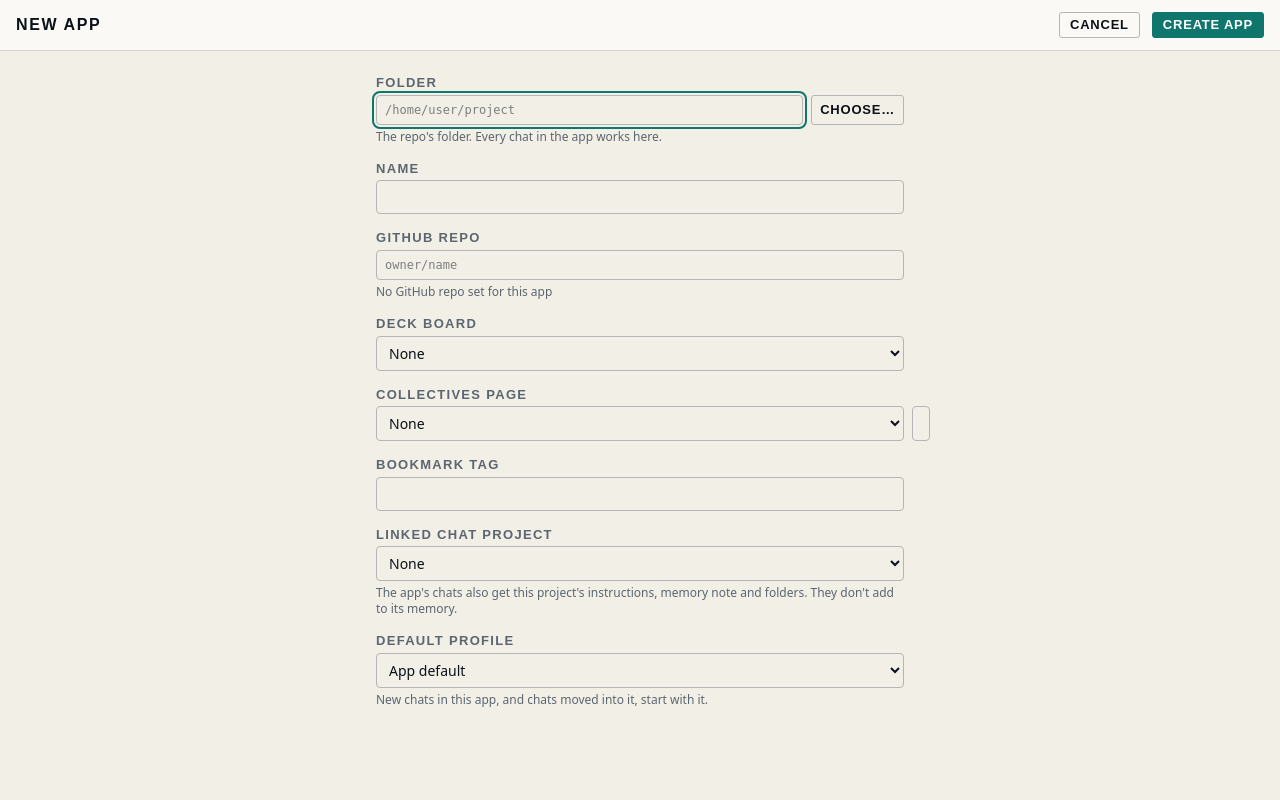
Test: AppView, creating (spec 2026-10-20-code-tab-design, "Creating an app") › Escape with nothing typed closes; with a draft it asks first
This screenshot has width=1280, height=800.
Type "X" into the field labelled "Name" at (640, 197), box [376, 180, 904, 214]
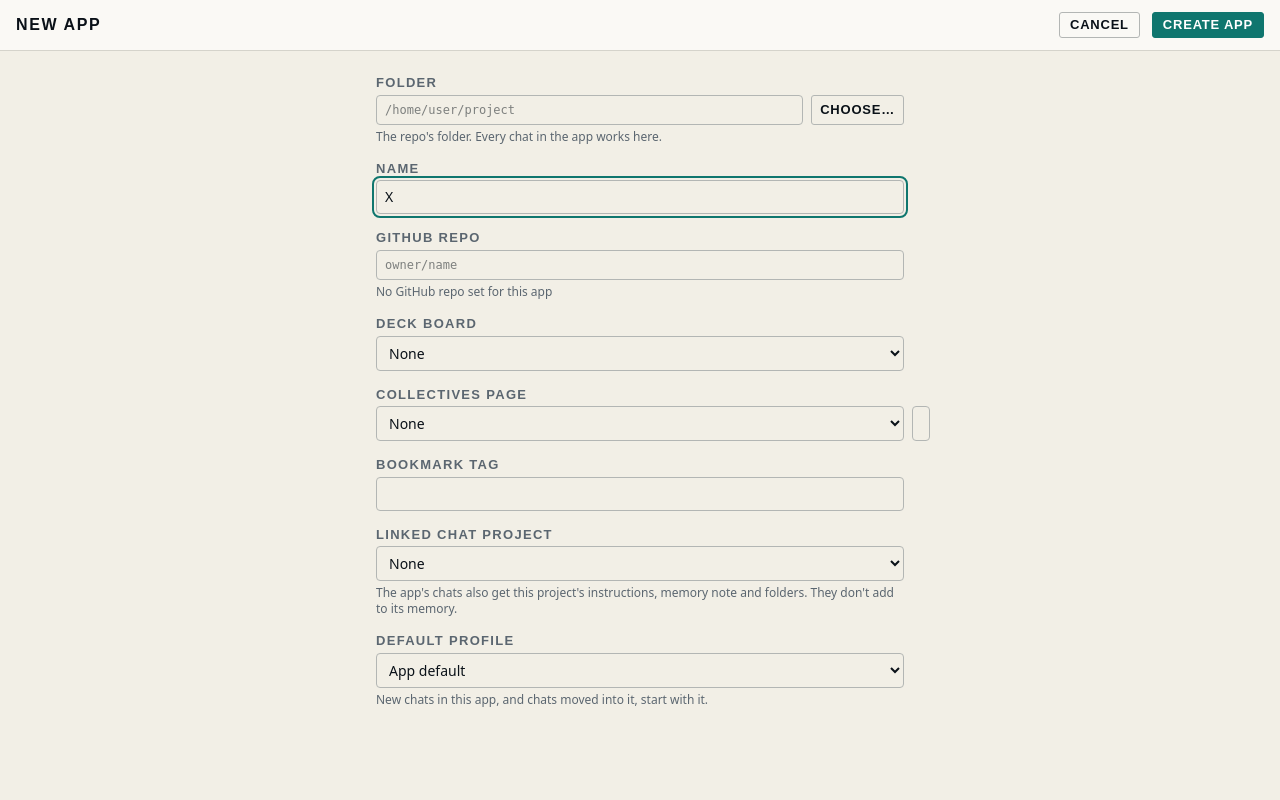
Press Escape in the element with test id "app-view"
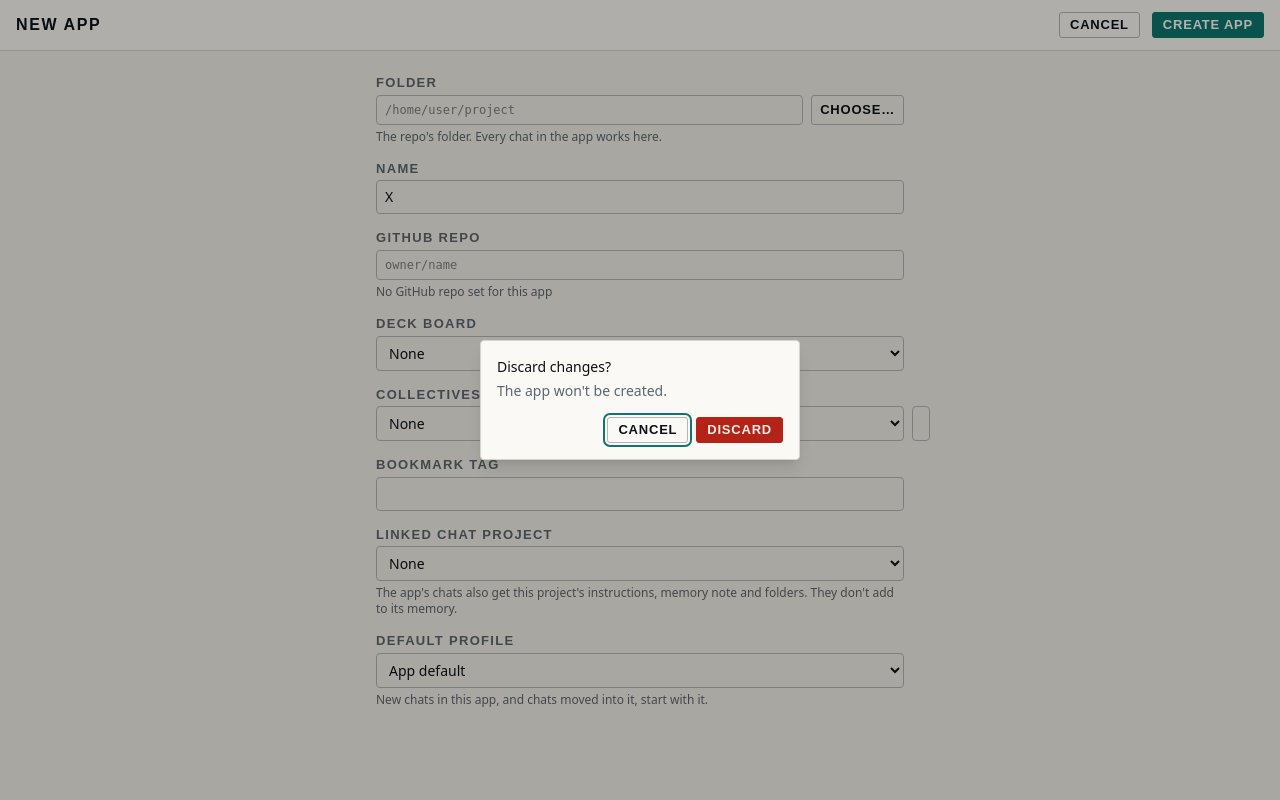
Check: the dialog "Discard changes?" is shown, box [480, 340, 800, 460]
